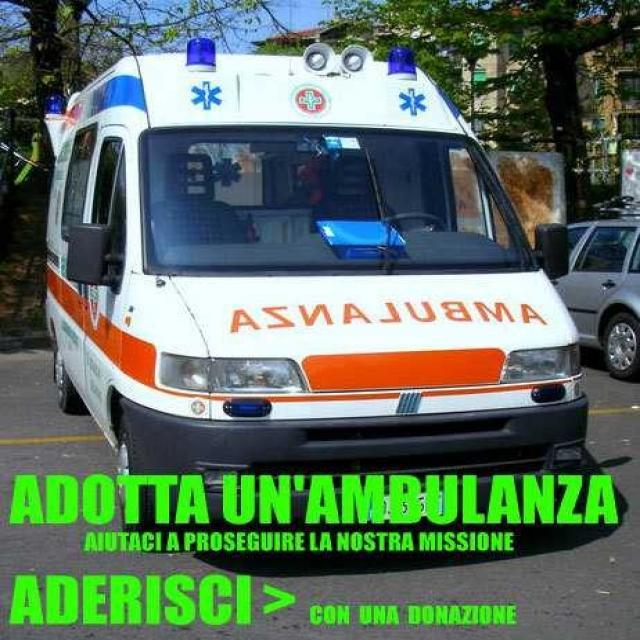emergency-vehicle: (46, 36, 586, 468)
